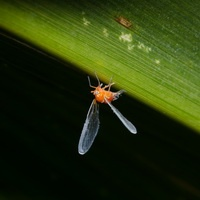insect: (78, 73, 136, 154)
